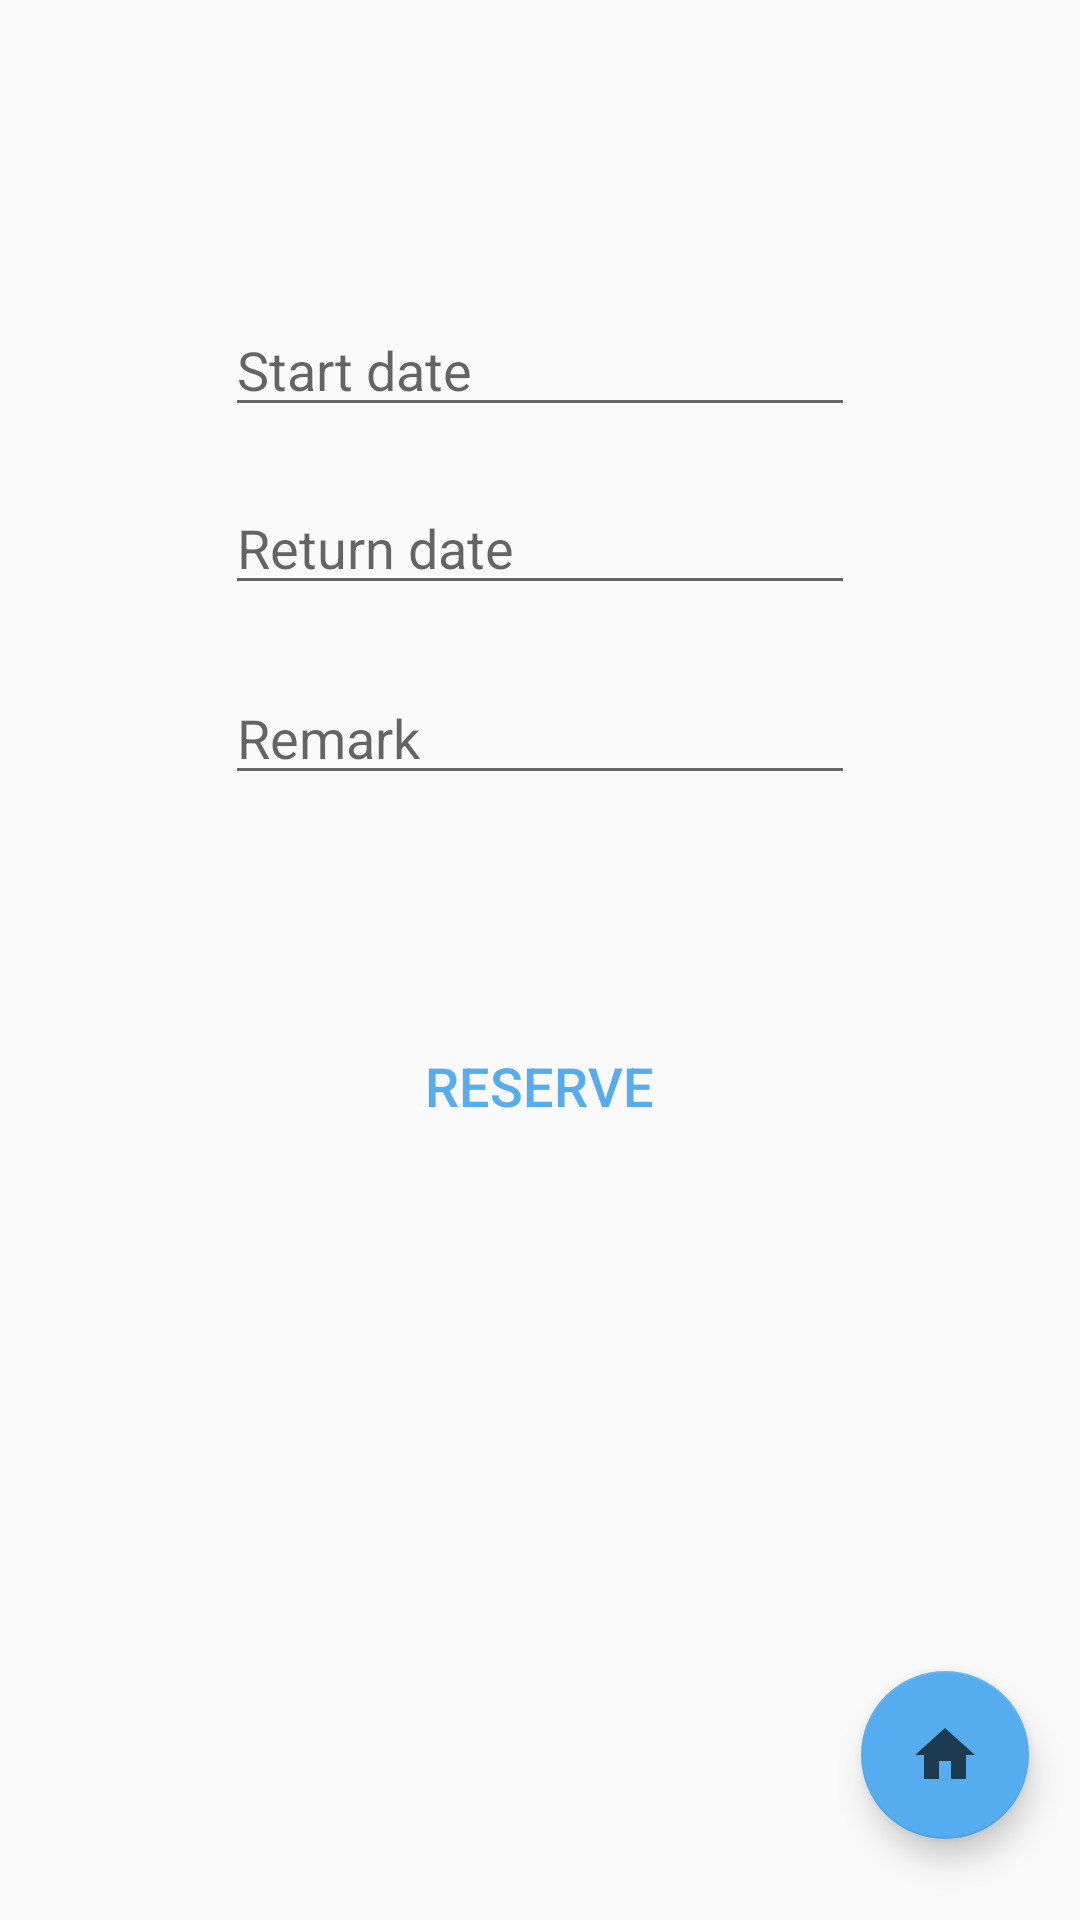

Locate icon controls on the screen. Image size 1080*1920, boxes as rect(x1, y1, x2, y2).
home: rect(861, 1671, 1029, 1839)
